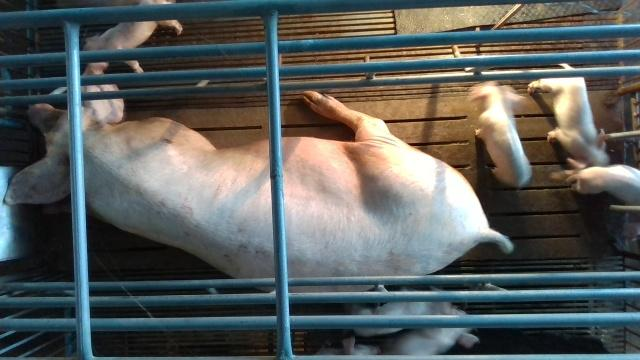piglet: (527, 64, 610, 169), (84, 0, 184, 73), (468, 84, 532, 188), (350, 284, 457, 336), (386, 308, 480, 355), (551, 164, 640, 205), (316, 336, 382, 354)
sow-sit: (5, 63, 514, 291)
